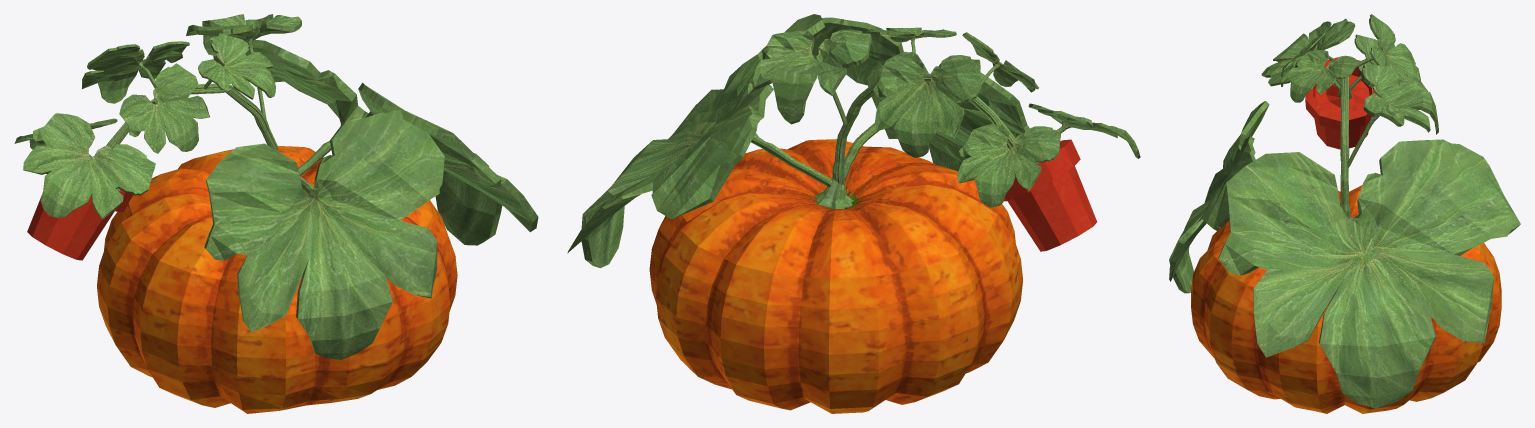
3 renders of one model, left to right at view 1: azimuth 30°, elevation 25°; view 2: azimuth 150°, elevation 25°; view 3: azimuth 270°, elevation 25°, orthographic. The views are drawn at different scales.
Visible parts, largest first — view 1: model; view 2: model; view 3: model.
Boxes of the visible parts, bbox=[...] form: model: bbox=[14, 14, 538, 413]; model: bbox=[567, 14, 1140, 413]; model: bbox=[1169, 14, 1520, 413].
Size of the model in its own units: 1 by 0.6849 by 0.7317.
Materials: 1 (1 with a texture image).
